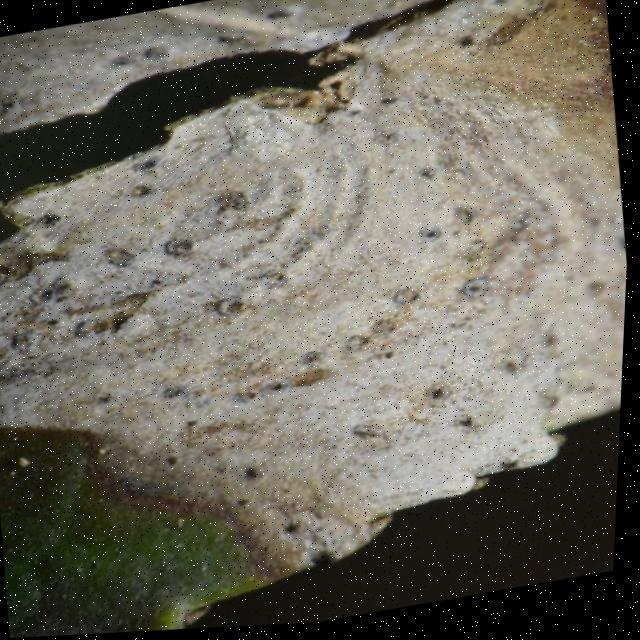Tea cloud leaf blight: (30, 0, 640, 619)
